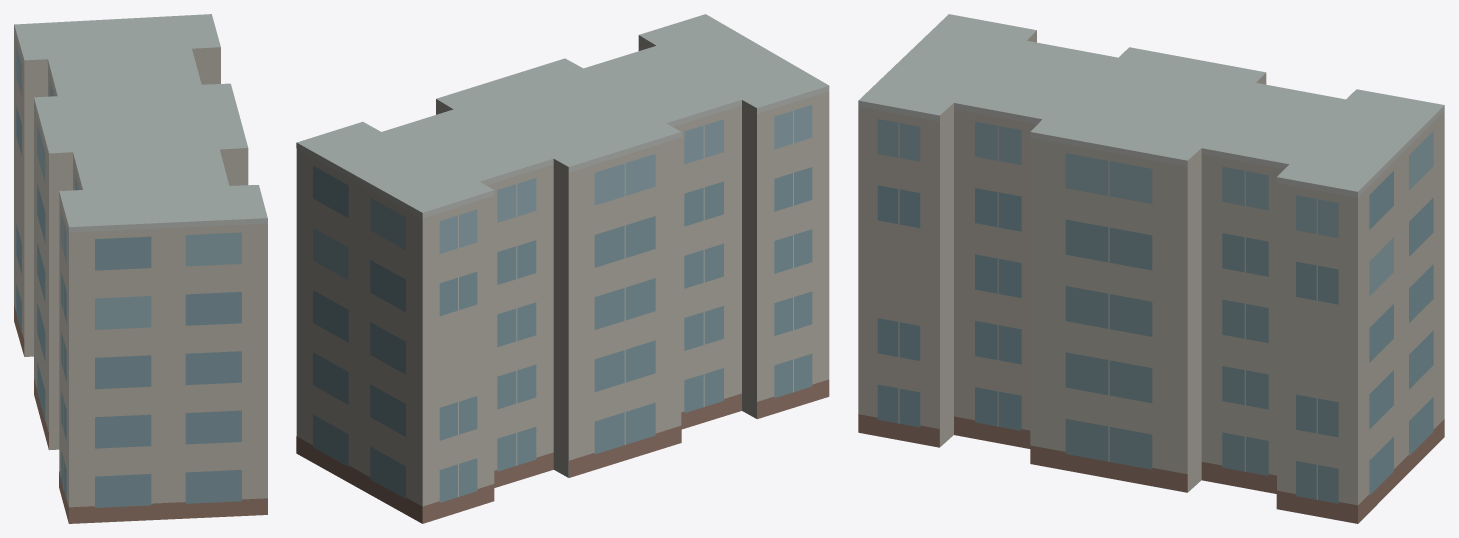
Rendered from survey-upis-33028658.glb.
The picture shows the model from 3 angles, left to right: view 1: azimuth 30°, elevation 25°; view 2: azimuth 150°, elevation 25°; view 3: azimuth 270°, elevation 25°; orthographic projection. The views are drawn at different scales.
Parts seen in each view (by area): view 1: survey-upis-33028658.tmp; view 2: survey-upis-33028658.tmp; view 3: survey-upis-33028658.tmp.
Boxes of the visible parts, bbox=[...] form: survey-upis-33028658.tmp: bbox=[14, 14, 267, 523]; survey-upis-33028658.tmp: bbox=[296, 14, 829, 523]; survey-upis-33028658.tmp: bbox=[858, 14, 1444, 523].
Bounding box in the file's own units: 15.28 × 13.3 × 21.29.
